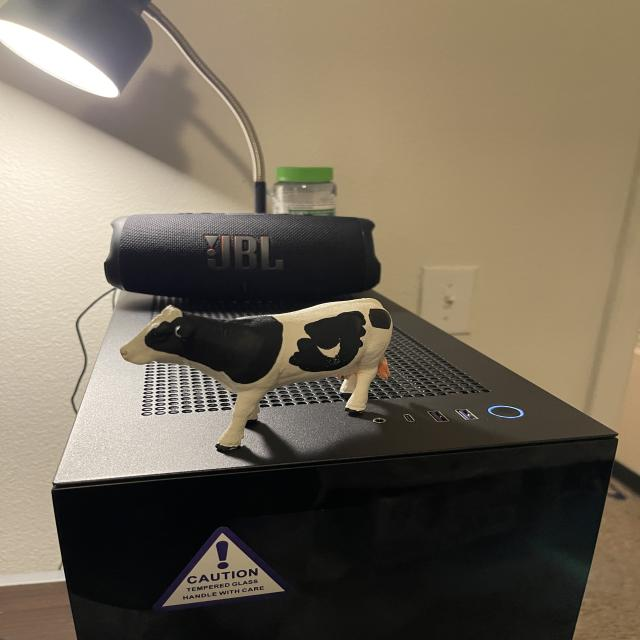cow: (118, 292, 400, 459)
